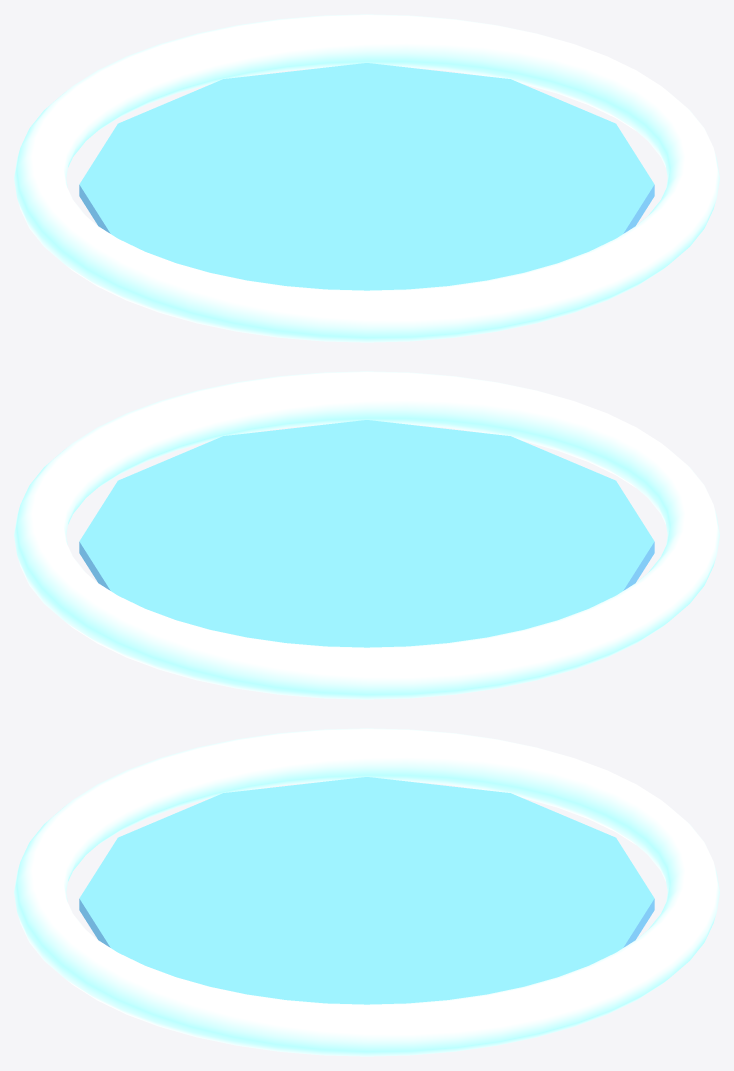
The model's file is item_platform.glb.
The picture shows the model from 3 angles, top to bottom: view 1: azimuth 30°, elevation 25°; view 2: azimuth 150°, elevation 25°; view 3: azimuth 270°, elevation 25°; orthographic projection.
Visible parts, largest first — view 1: PlatformDisc, PlatformRing; view 2: PlatformDisc, PlatformRing; view 3: PlatformDisc, PlatformRing.
Part boxes in pixels (x1=…): PlatformDisc: x1=79, y1=63, x2=654, y2=290; PlatformRing: x1=14, y1=14, x2=719, y2=342; PlatformDisc: x1=79, y1=420, x2=654, y2=647; PlatformRing: x1=14, y1=371, x2=719, y2=699; PlatformDisc: x1=79, y1=777, x2=654, y2=1004; PlatformRing: x1=14, y1=728, x2=719, y2=1056.
Size of the model in its own units: 0.54 by 0.04 by 0.54.
